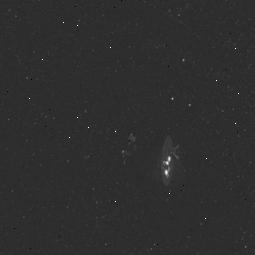proba_3_ocs: (118, 122, 185, 188)
